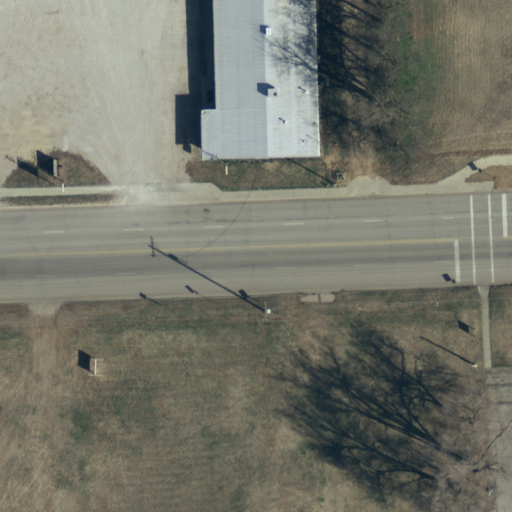DT: (248, 298, 274, 323)
